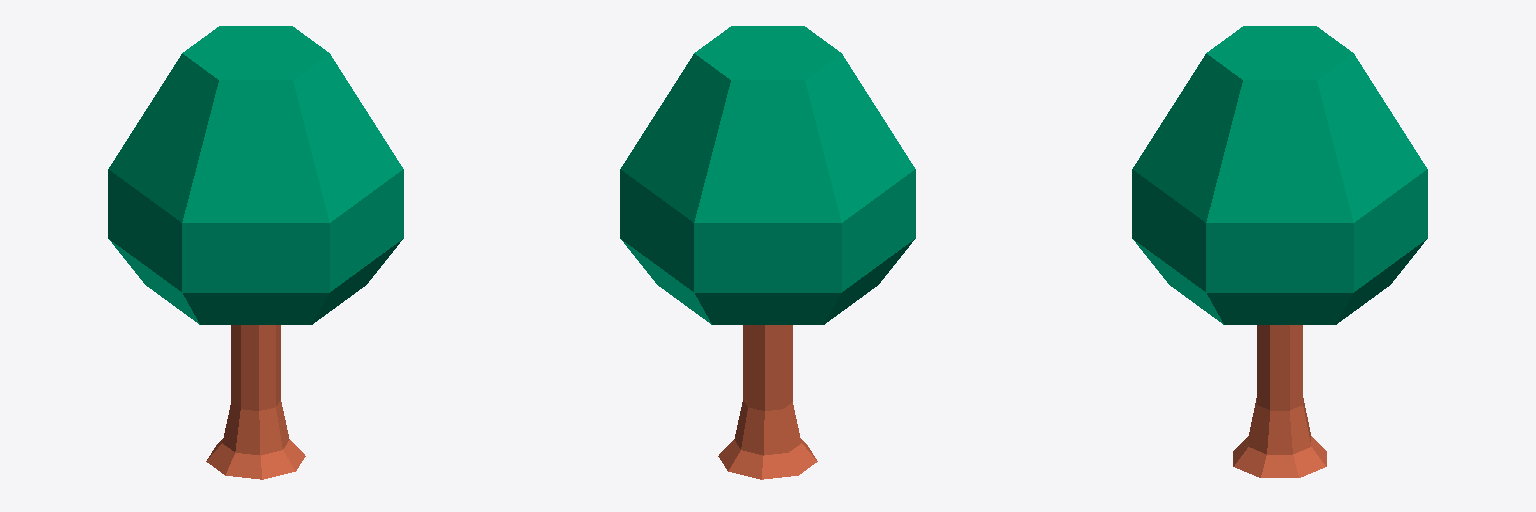
Rendered from tree1.obj.
The picture shows the model from 3 angles: view 1: azimuth 30°, elevation 25°; view 2: azimuth 150°, elevation 25°; view 3: azimuth 270°, elevation 25°; orthographic projection.
Parts seen in each view (by area): view 1: leafs_cone, trunk_base, trunk; view 2: leafs_cone, trunk_base, trunk; view 3: leafs_cone, trunk_base, trunk.
Boxes of the visible parts, box(x1,y1,x2,y2) form: leafs_cone: box(108, 26, 403, 324); trunk_base: box(206, 400, 305, 479); trunk: box(231, 325, 280, 410); leafs_cone: box(620, 26, 915, 324); trunk_base: box(718, 400, 817, 479); trunk: box(743, 325, 792, 410); leafs_cone: box(1132, 26, 1427, 324); trunk_base: box(1233, 398, 1326, 477); trunk: box(1257, 325, 1302, 410).
Size of the model in its own units: 2 by 3.5 by 2.31.